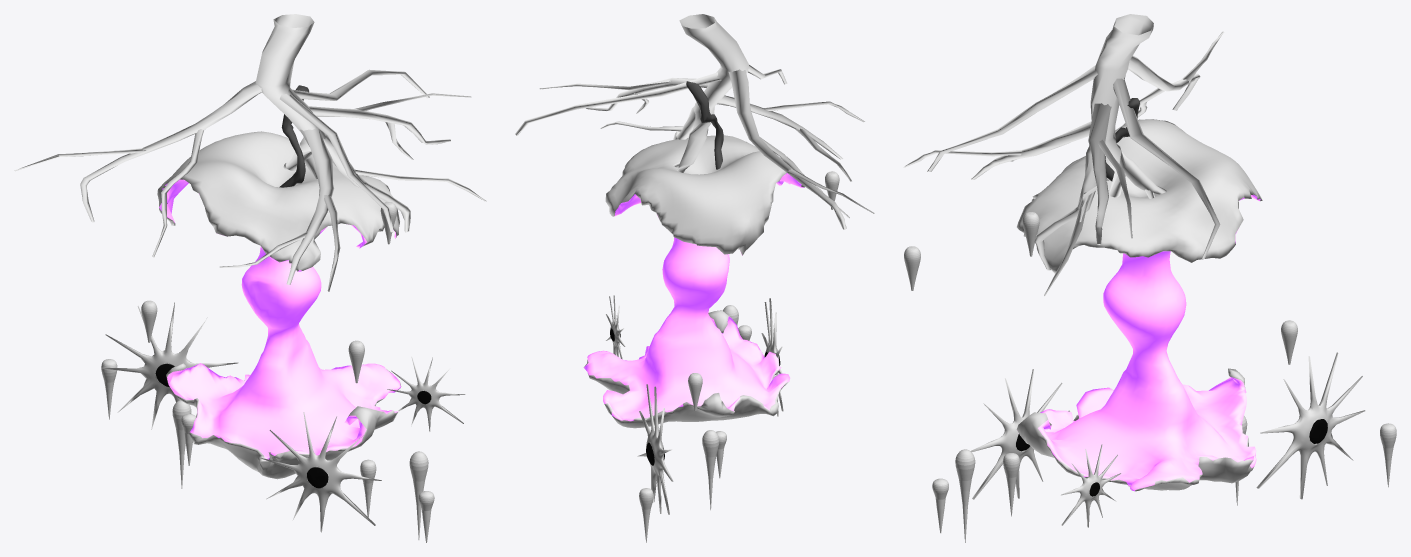
3 renders of one model, left to right at view 1: azimuth 30°, elevation 25°; view 2: azimuth 150°, elevation 25°; view 3: azimuth 270°, elevation 25°, orthographic. The views are drawn at different scales.
Parts seen in each view (by area): view 1: Line002.006, tree, star.003, star.001, star.002, tear_R002, tear_L002; view 2: Line002.006, tree, star.001, tear_L002, star.003, star.002, tear_L001; view 3: Line002.006, tree, star.001, star.003, star.002, tear_R002, tear_L001.
Part boxes in pixels (x1,y1,x2,y2): Line002.006: (157,85,401,479); tree: (14,14,486,291); star.003: (260,412,381,532); star.001: (102,302,238,429); star.002: (387,357,465,431); tear_R002: (409,451,428,539); tear_L002: (172,400,191,488); Line002.006: (583,81,804,428); tree: (515,14,874,229); star.001: (637,384,673,514); tear_L002: (702,430,719,510); star.003: (761,298,783,416); star.002: (606,295,625,359); tear_L001: (639,488,653,542); Line002.006: (1016,98,1262,491); tree: (903,14,1223,295); star.001: (1256,352,1365,499); star.003: (970,369,1069,499); star.002: (1061,444,1120,527); tear_R002: (955,449,975,542); tear_L001: (1380,423,1396,487).
Bounding box in the file's own units: 814 × 922 × 801.
